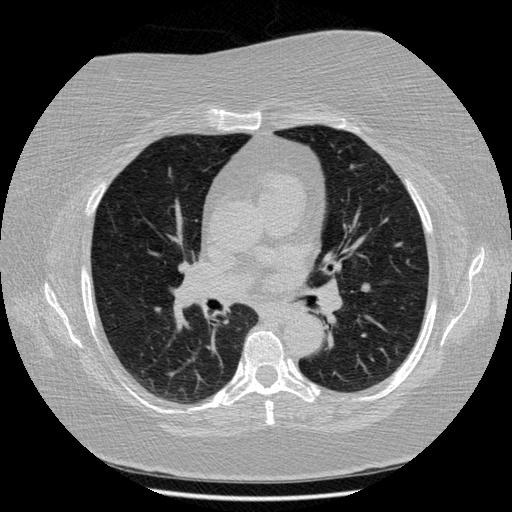nodule: (359, 281, 372, 294)
